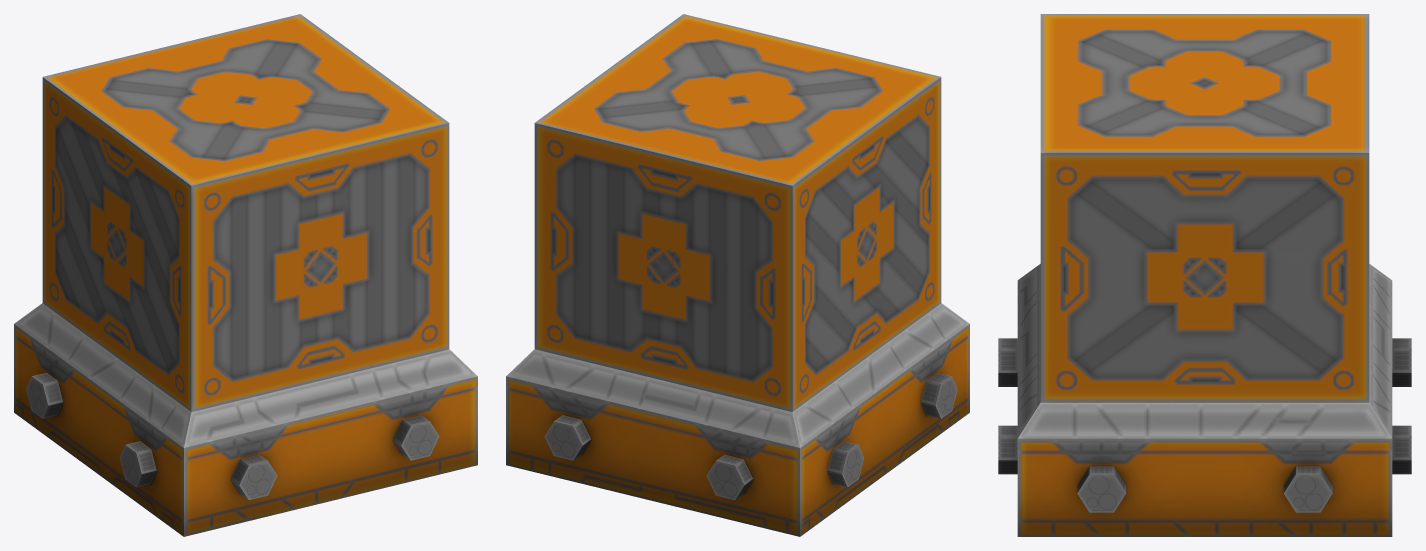
File: Generic_03.dae
3 views of the same model, side by side, from view 1: azimuth 30°, elevation 25°; view 2: azimuth 150°, elevation 25°; view 3: azimuth 270°, elevation 25° (orthographic). The views are drawn at different scales.
Parts seen in each view (by area): view 1: Generic_03; view 2: Generic_03; view 3: Generic_03.
Boxes of the visible parts, x1,y1,x2,y2 form: Generic_03: [14, 14, 477, 536]; Generic_03: [506, 14, 969, 536]; Generic_03: [998, 14, 1411, 536].
Size of the model in its own units: 2 by 2 by 2.
